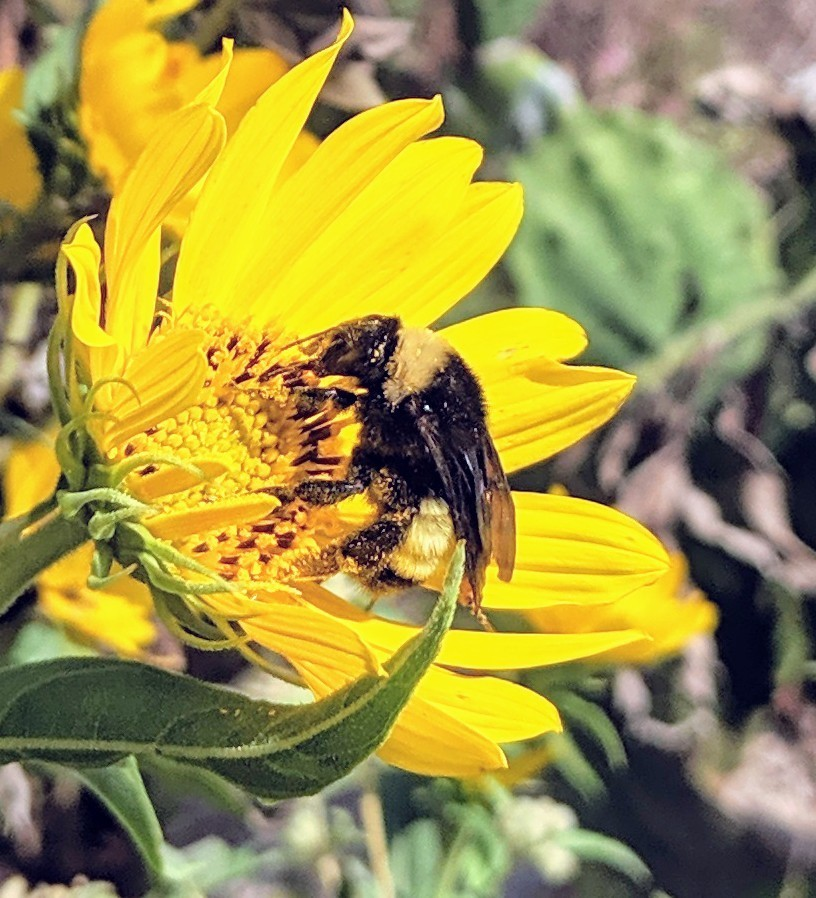bumblebee: (242, 312, 520, 617)
